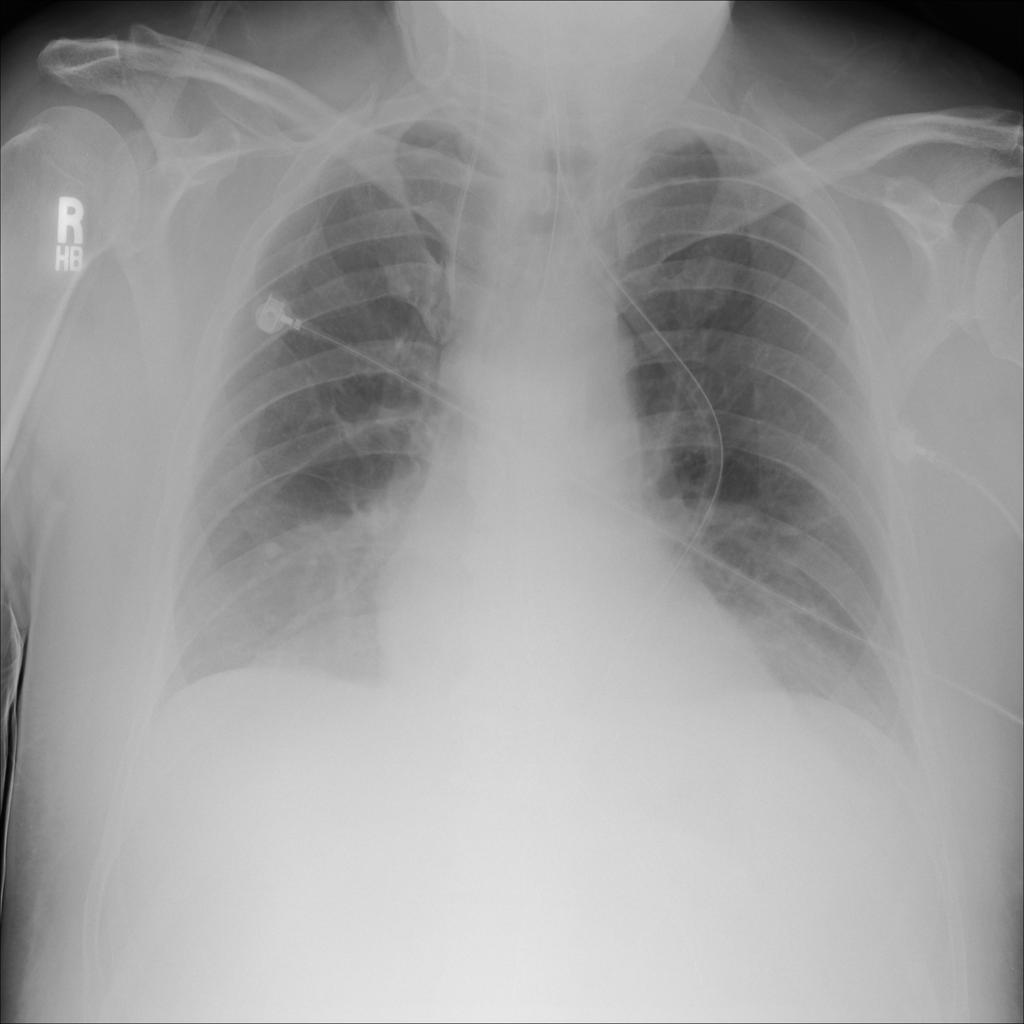nodule: (243, 524, 296, 572)
